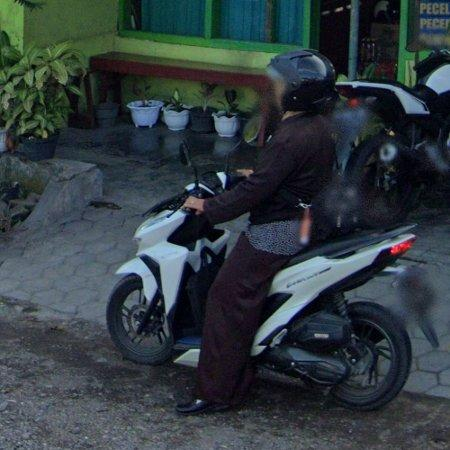motorcycles: (254, 225, 416, 410), (106, 204, 235, 365)
